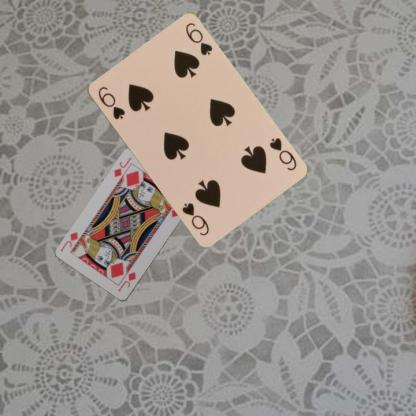6s: (94, 84, 126, 121), (266, 135, 298, 172)
Jd: (115, 269, 137, 293), (111, 155, 133, 178)
